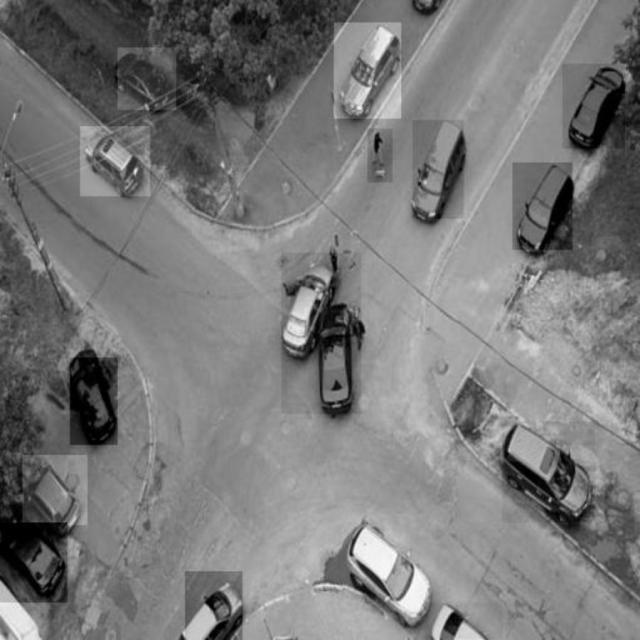accident: (282, 253, 362, 413)
person: (368, 129, 393, 183)
vehicle: (343, 515, 436, 619), (503, 422, 595, 523), (334, 23, 401, 119), (512, 162, 573, 250), (0, 523, 67, 603), (563, 64, 625, 148), (413, 120, 464, 218), (80, 127, 150, 197), (23, 456, 87, 526), (71, 357, 118, 445), (184, 571, 243, 640), (118, 48, 176, 110), (425, 603, 502, 639)
